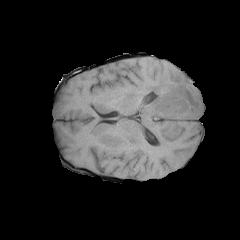glioma: (94, 70, 202, 147)
